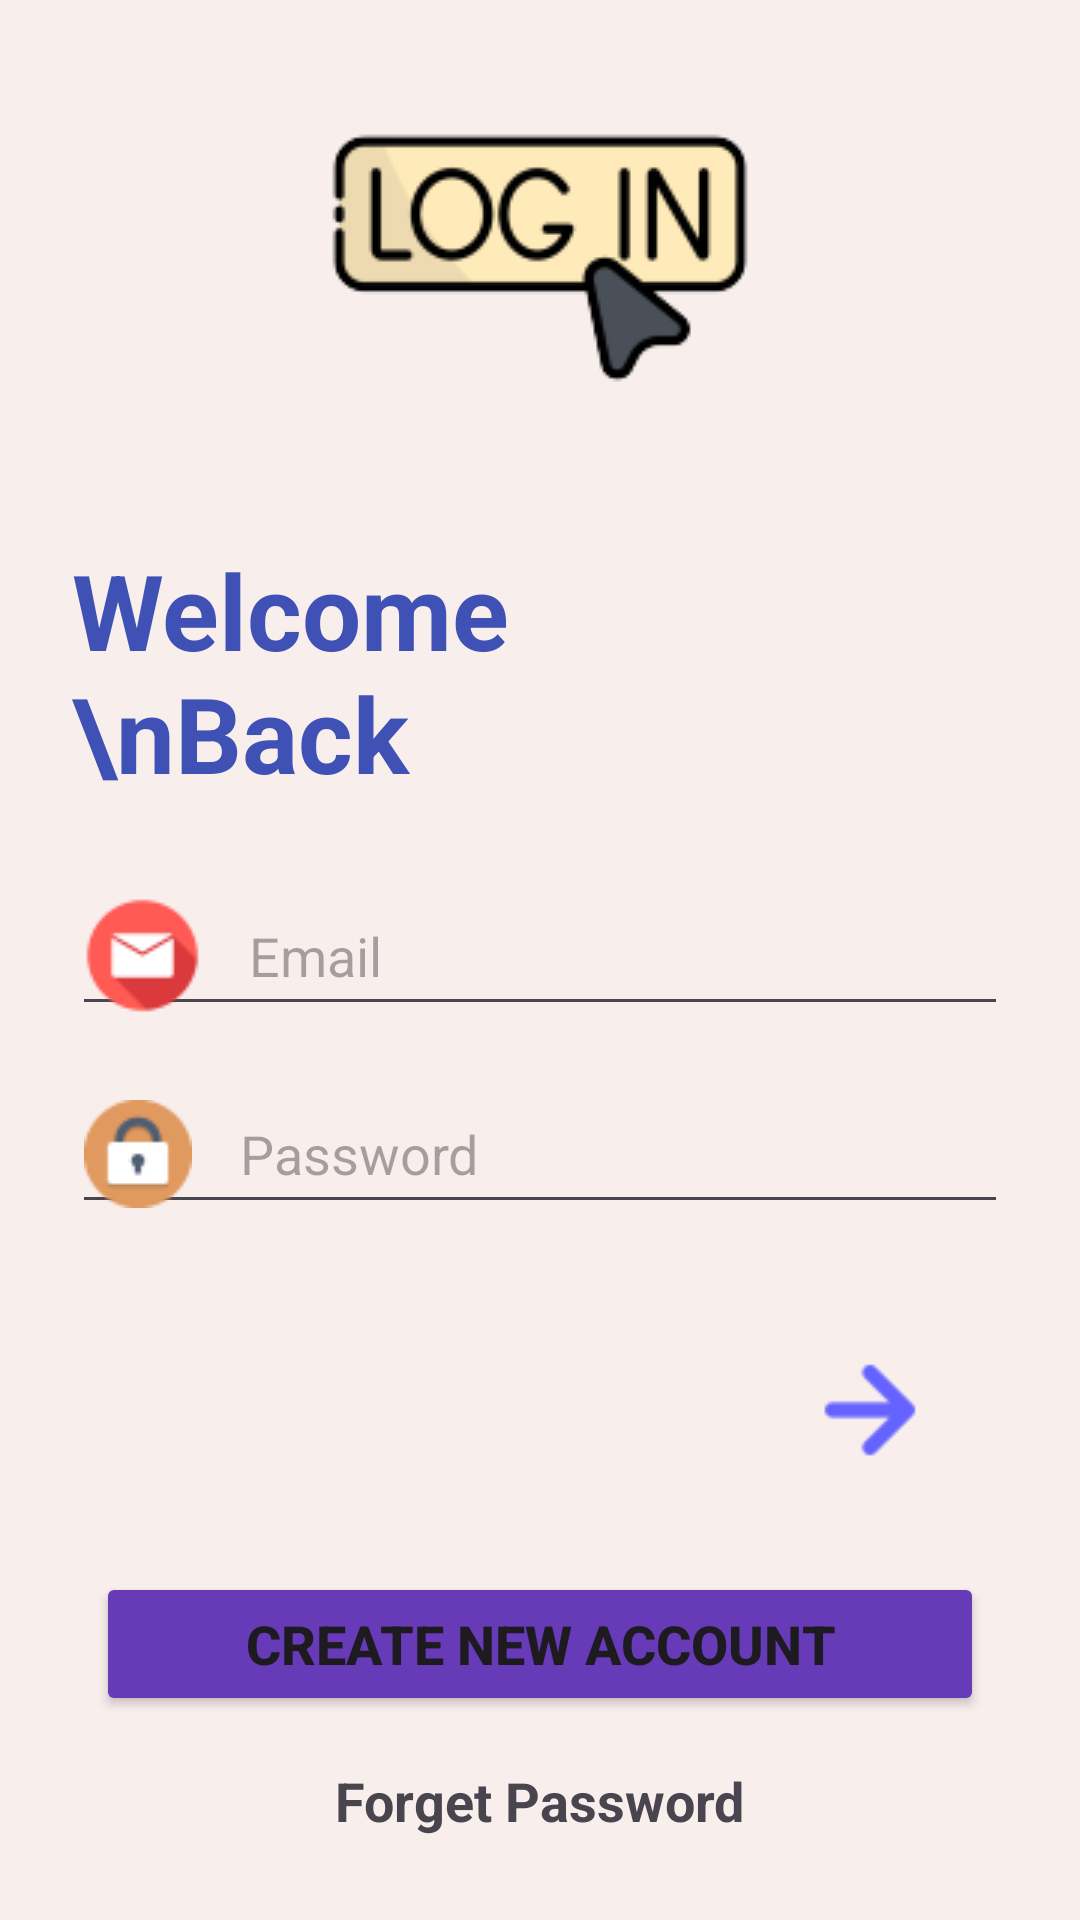

Screen size 1080 × 1920. Icon name, then its center in pixels as [x,y]:
arrow: [870,1410]
